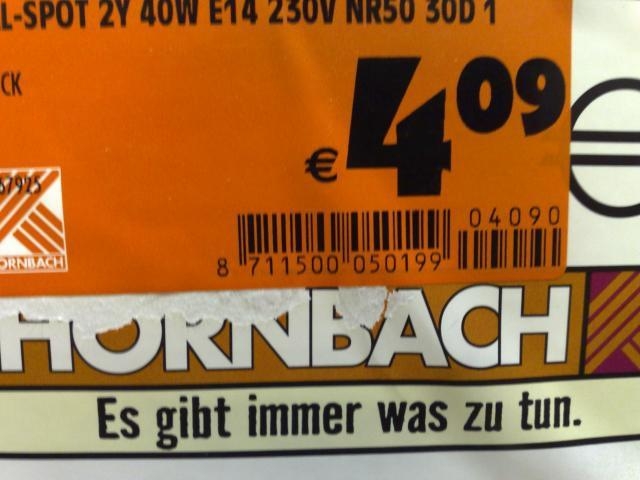Barcode: (202, 200, 457, 281)
